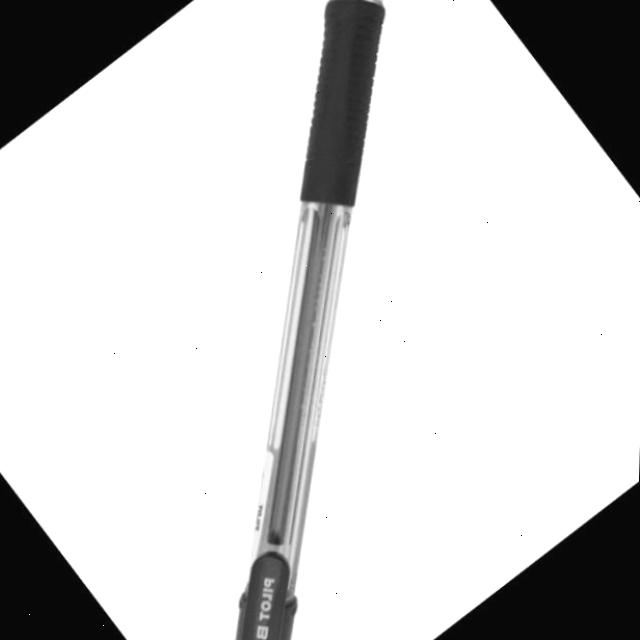pencil: (191, 0, 401, 640)
